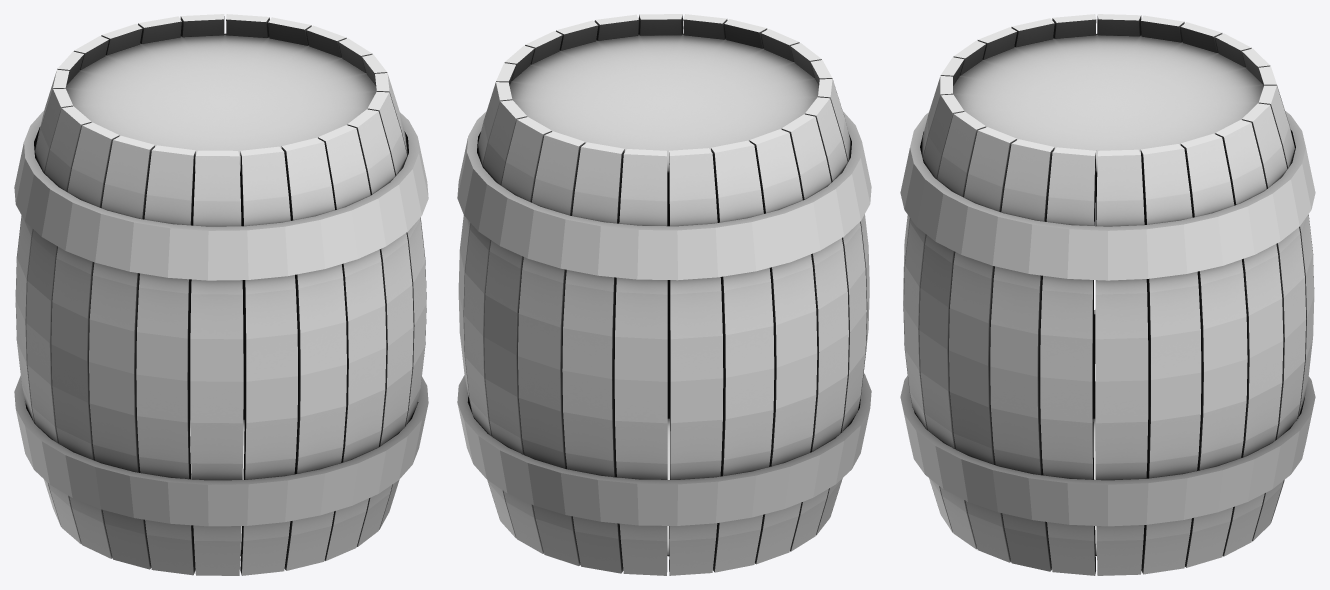
File: Barrel.fbx
The picture shows the model from 3 angles, left to right: view 1: azimuth 30°, elevation 25°; view 2: azimuth 150°, elevation 25°; view 3: azimuth 270°, elevation 25°; orthographic projection.
Visible parts, largest first — view 1: Barrel_LOD0; view 2: Barrel_LOD0; view 3: Barrel_LOD0.
Boxes of the visible parts, x1,y1,x2,y2 form: Barrel_LOD0: (14, 14, 428, 575); Barrel_LOD0: (457, 14, 871, 575); Barrel_LOD0: (900, 14, 1315, 575).
Size of what is drawn, in the model's own units: 94.75 by 106 by 94.75.
